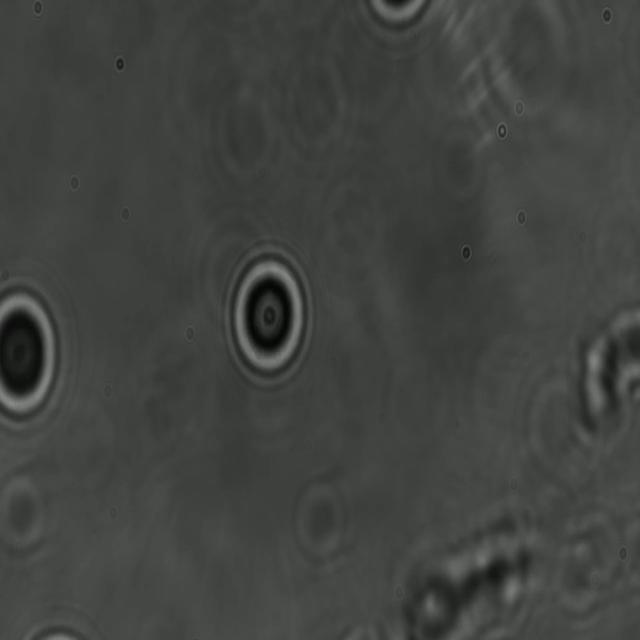LCELL: (220, 239, 316, 393)
